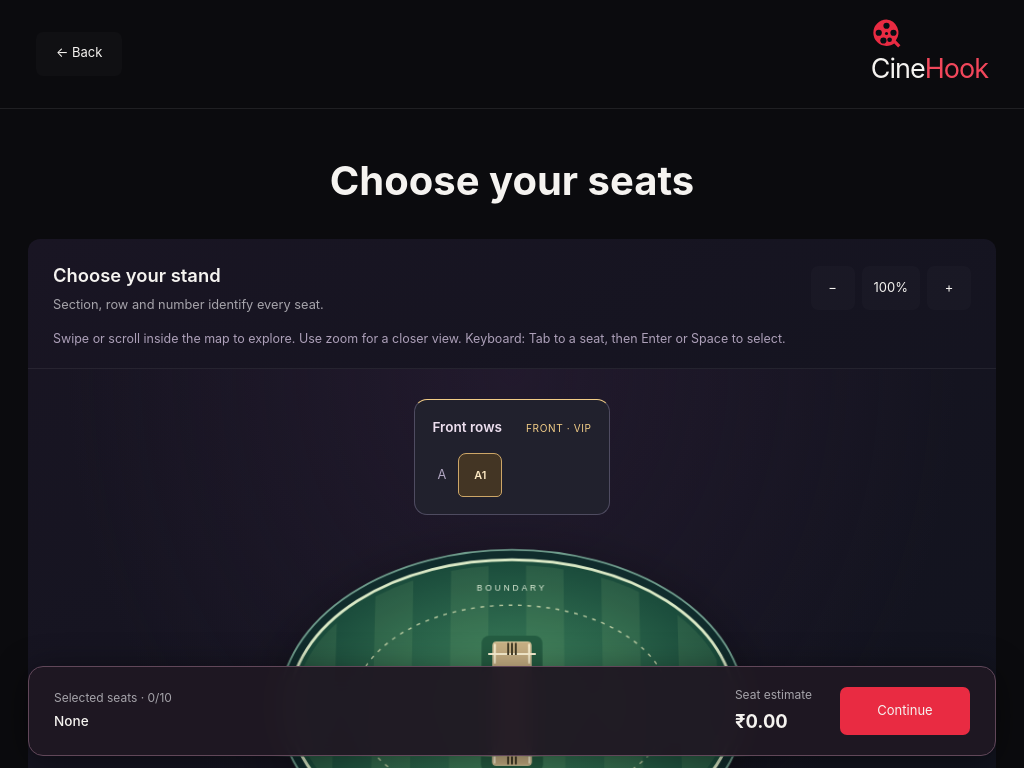
it: uses the persisted cricket sport to render its playing area
This screenshot has width=1024, height=768.
Click the button named "Zoom in": {"x": 949, "y": 288} [927,266,971,310]
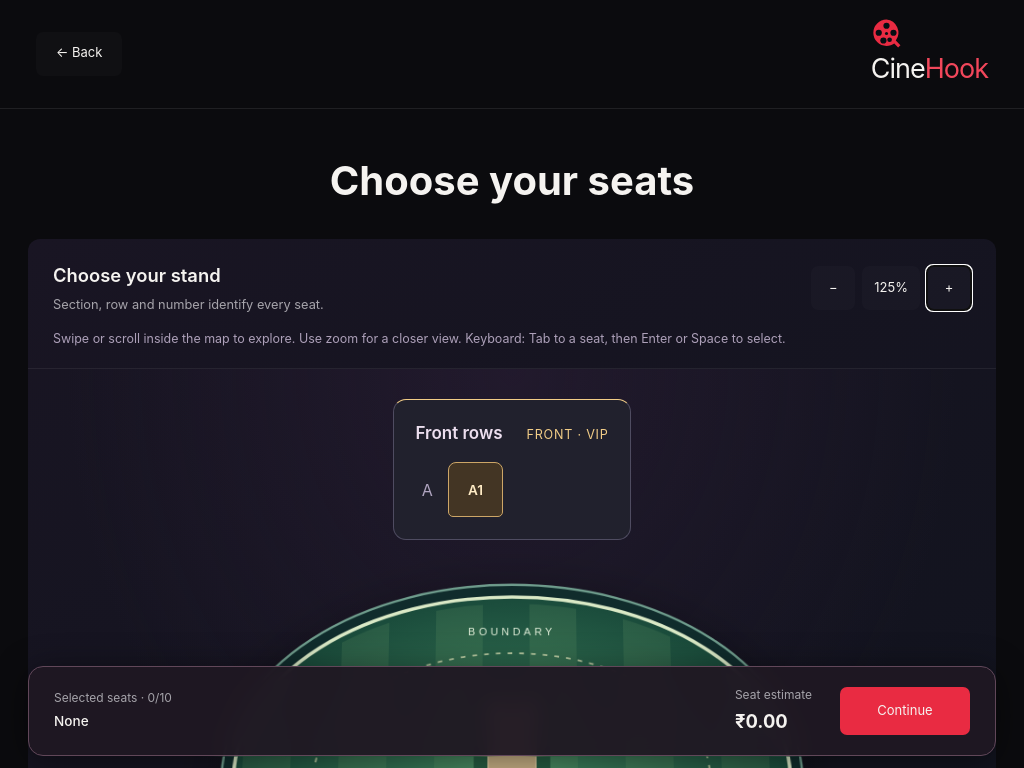
Expected: the button named "Reset zoom" reads "125%", [862,266,920,310]
